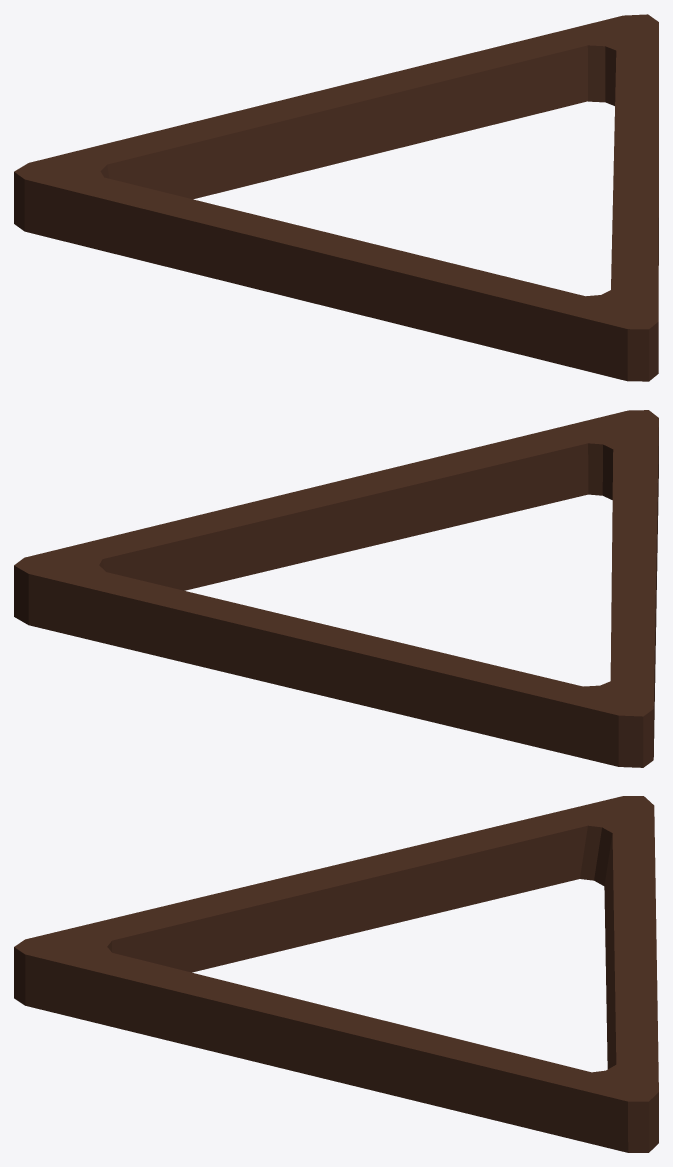
File: LoungePoolRackUV.fbx
3 views of the same model, one above another, from view 1: azimuth 30°, elevation 25°; view 2: azimuth 150°, elevation 25°; view 3: azimuth 270°, elevation 25° (orthographic).
Parts seen in each view (by area): view 1: rack; view 2: rack; view 3: rack.
Boxes of the visible parts, x1=… form: rack: x1=14, y1=14, x2=658, y2=381; rack: x1=14, y1=410, x2=658, y2=767; rack: x1=14, y1=796, x2=658, y2=1152.
Size of the model in its own units: 77.27 by 6.06 by 68.92.
